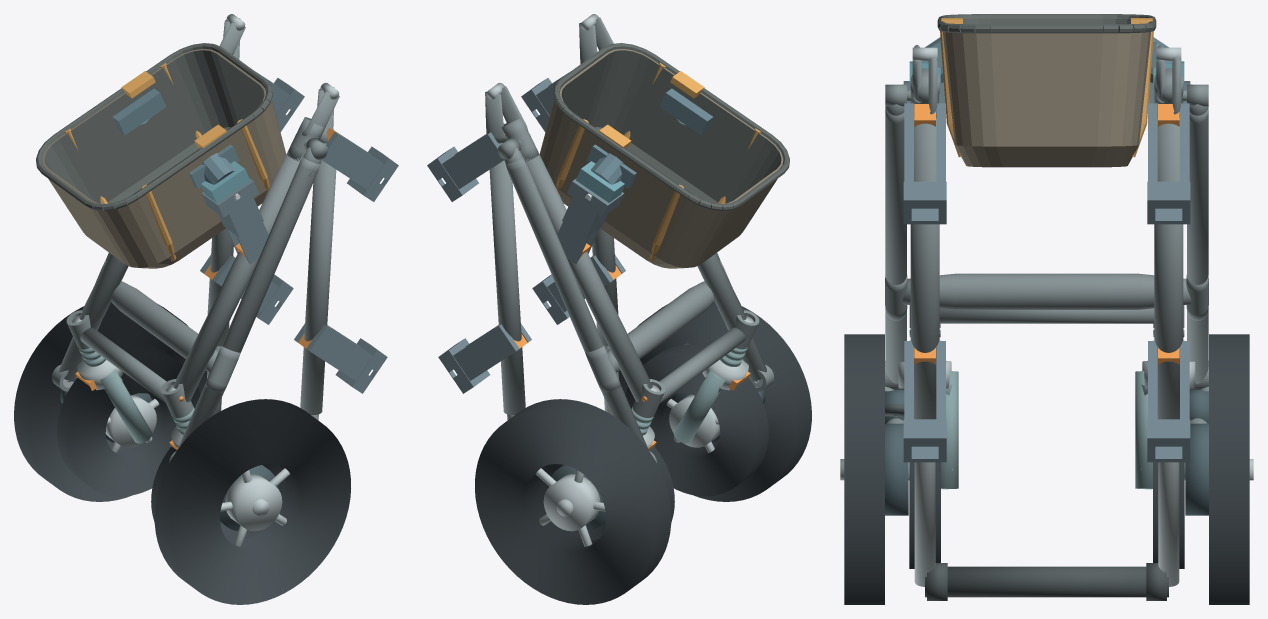
Rendered from S15_w380_state3_wheel_M.glb.
The picture shows the model from 3 angles, left to right: view 1: azimuth 30°, elevation 25°; view 2: azimuth 150°, elevation 25°; view 3: azimuth 270°, elevation 25°; orthographic projection. The views are drawn at different scales.
Visible parts, largest first — view 1: S15_Cabin, RL_tire.013, FR_tire.013, RR_tire.013, main_upper_-1.001, V46_rear_leg_-1, main_lower_-1.001, S15_Cabin_Mount_L, Universal_Cabin_Receiver_H_-1, V46_rearbar, Universal_Cabin_Receiver_M_-1, Universal_Cabin_Receiver_L_-1 (+17 smaller); view 2: S15_Cabin, RR_tire.013, FL_tire.013, RL_tire.013, main_upper_1.001, V46_rear_leg_1, main_lower_1.001, S15_Cabin_Mount_L, Universal_Cabin_Receiver_H_1, V46_rearbar, Universal_Cabin_Receiver_M_1, Universal_Cabin_Receiver_L_1 (+18 smaller); view 3: S15_Cabin, RL_tire.013, RR_tire.013, V46_rearbar, round_handle.012, main_upper_1.001, main_upper_-1.001, V46_rear_leg_1, V46_rear_leg_-1, Universal_Cabin_Receiver_M_1, Universal_Cabin_Receiver_M_-1, Universal_Cabin_Receiver_H_1 (+18 smaller).
Boxes of the visible parts, x1=… form: S15_Cabin: x1=36, y1=43, x2=286, y2=268; RL_tire.013: x1=154, y1=399, x2=350, y2=604; FR_tire.013: x1=57, y1=345, x2=200, y2=496; RR_tire.013: x1=14, y1=302, x2=207, y2=501; main_upper_-1.001: x1=300, y1=143, x2=336, y2=415; V46_rear_leg_-1: x1=177, y1=157, x2=320, y2=449; main_lower_-1.001: x1=173, y1=151, x2=305, y2=402; S15_Cabin_Mount_L: x1=112, y1=88, x2=249, y2=202; Universal_Cabin_Receiver_H_-1: x1=294, y1=324, x2=387, y2=393; V46_rearbar: x1=111, y1=281, x2=218, y2=372; Universal_Cabin_Receiver_M_-1: x1=322, y1=130, x2=398, y2=201; Universal_Cabin_Receiver_L_-1: x1=201, y1=178, x2=268, y2=264; S15_Cabin: x1=539, y1=43, x2=789, y2=268; RR_tire.013: x1=475, y1=399, x2=671, y2=604; FL_tire.013: x1=625, y1=345, x2=768, y2=496; RL_tire.013: x1=618, y1=302, x2=811, y2=501; main_upper_1.001: x1=489, y1=143, x2=525, y2=415; V46_rear_leg_1: x1=505, y1=157, x2=648, y2=449; main_lower_1.001: x1=520, y1=151, x2=652, y2=402; S15_Cabin_Mount_L: x1=576, y1=88, x2=713, y2=202; Universal_Cabin_Receiver_H_1: x1=438, y1=324, x2=531, y2=393; V46_rearbar: x1=607, y1=281, x2=714, y2=372; Universal_Cabin_Receiver_M_1: x1=427, y1=123, x2=504, y2=201; Universal_Cabin_Receiver_L_1: x1=557, y1=178, x2=624, y2=264; S15_Cabin: x1=937, y1=14, x2=1156, y2=167; RL_tire.013: x1=844, y1=334, x2=884, y2=604; RR_tire.013: x1=1209, y1=334, x2=1249, y2=604; V46_rearbar: x1=902, y1=273, x2=1191, y2=309; round_handle.012: x1=925, y1=566, x2=1168, y2=597; main_upper_1.001: x1=1154, y1=118, x2=1183, y2=419; main_upper_-1.001: x1=910, y1=118, x2=939, y2=419; V46_rear_leg_1: x1=1187, y1=106, x2=1208, y2=383; V46_rear_leg_-1: x1=885, y1=106, x2=906, y2=383; Universal_Cabin_Receiver_M_1: x1=1147, y1=103, x2=1190, y2=224; Universal_Cabin_Receiver_M_-1: x1=903, y1=103, x2=946, y2=224; Universal_Cabin_Receiver_H_1: x1=1147, y1=341, x2=1190, y2=462.
Bounding box in the file's own units: 0.4647 × 0.7426 × 0.458.
